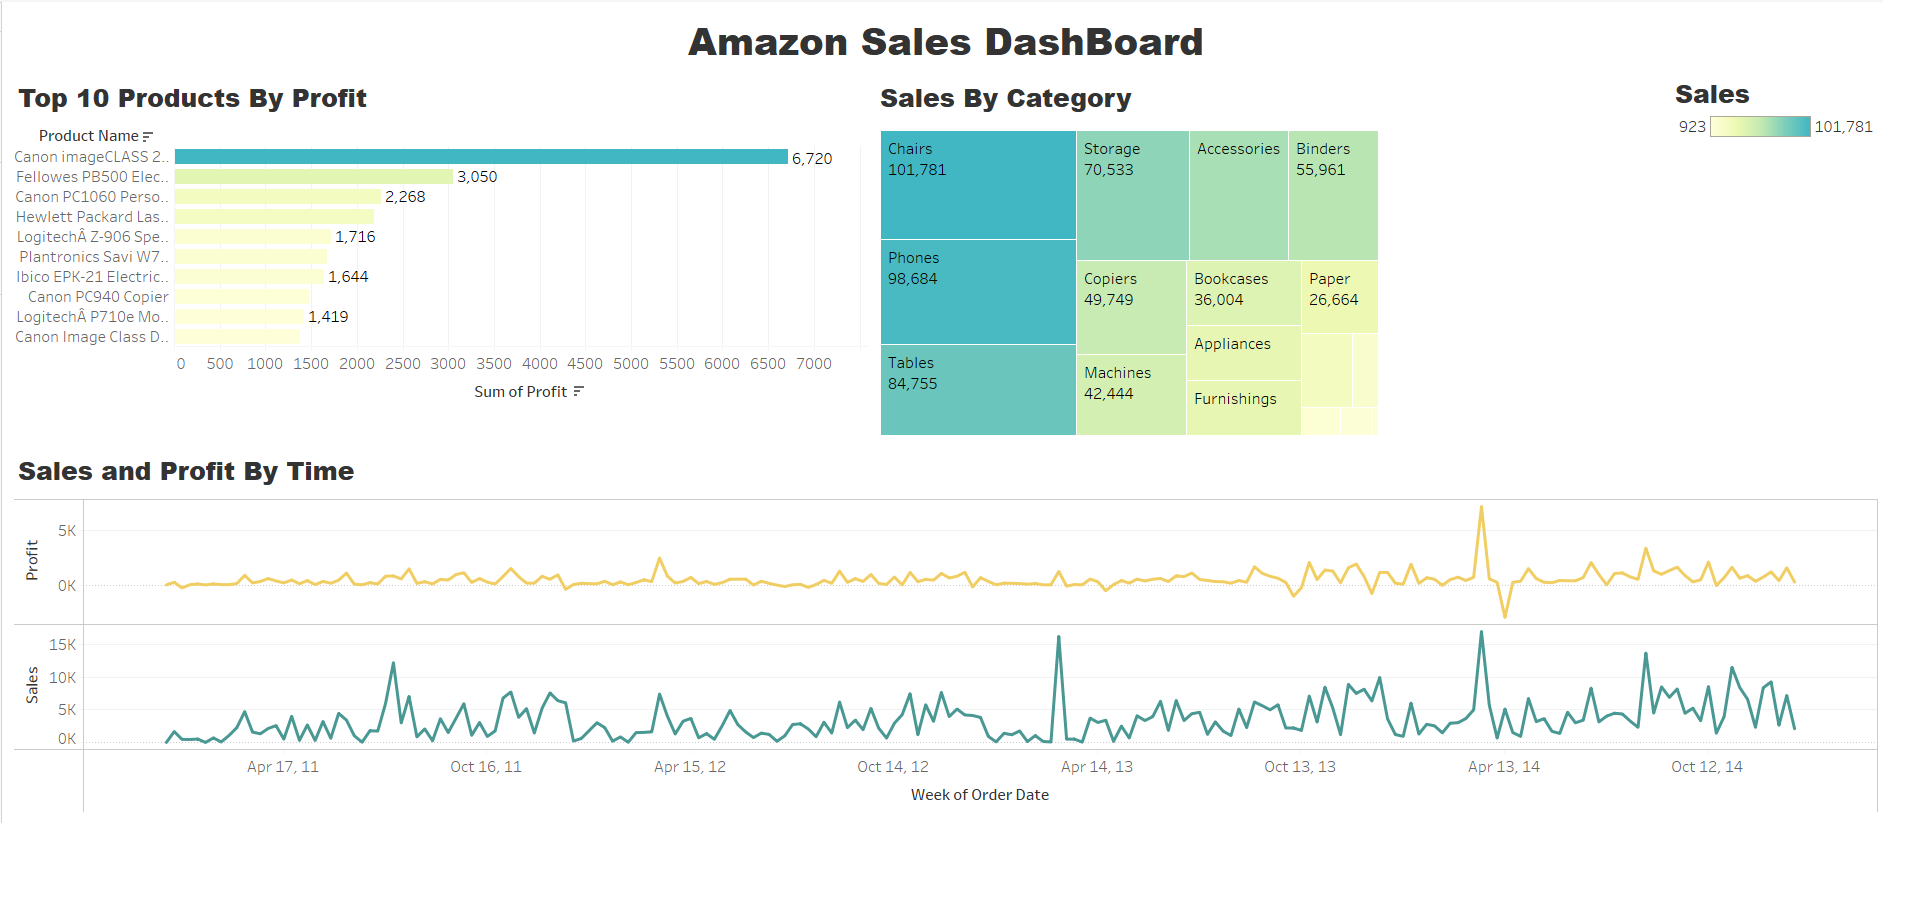

This screenshot's page, from the dashboard's own definition file:
{"tool":"tableau","page":{"name":"Dashboard 1","canvas":[1000,1000],"units":"permille","ordinal":0},"visuals":[{"type":"title","box":[4.2,9.7,991.5,74.1]},{"type":"worksheet","title":"Sheet 2","mark":"Automatic","rows":["Product Name"],"cols":["Profit"],"box":[4.2,83.8,456.5,453.2]},{"type":"worksheet","title":"Sheet 1","mark":"Automatic","box":[460.7,83.8,423.3,453.2]},{"type":"legend","title":"Sheet 1","param":"[federated.1qecizj1aag64g1gdupkf100lzod].[sum:Sales:qk]","box":[884,83.8,111.8,106.9]},{"type":"worksheet","title":"Sheet 3","mark":"Automatic","rows":["Profit","Sales"],"cols":["Order Date"],"box":[4.2,537,991.5,453.3]}]}

Visuals, with their boxes on the dashboard's canvas, which has no fixed pixel size, in thousandths of its width and height (x1, y1, x2, y2). These are canvas units, not pixel positions in the 1914x914 screenshot, which may show the page scaled, cropped or inside an application window:
title: (4, 10, 996, 84)
"Sheet 2" worksheet: (4, 84, 461, 537)
"Sheet 1" worksheet: (461, 84, 884, 537)
"Sheet 1" legend: (884, 84, 996, 191)
"Sheet 3" worksheet: (4, 537, 996, 990)
